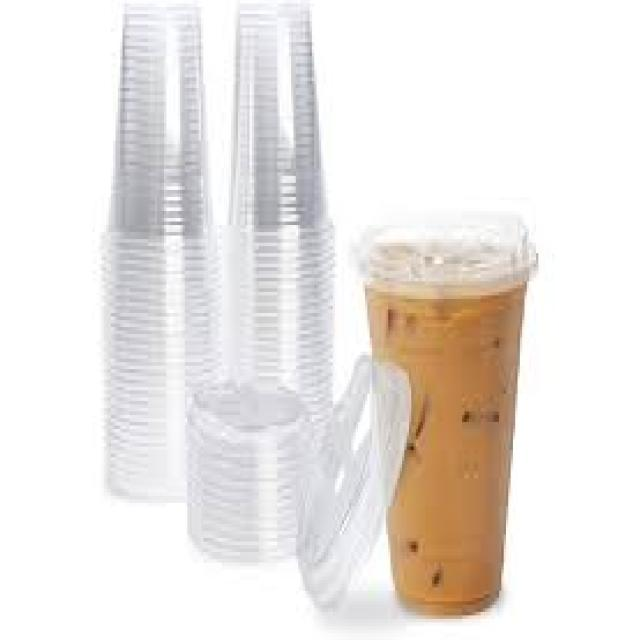cup: (349, 190, 544, 631)
